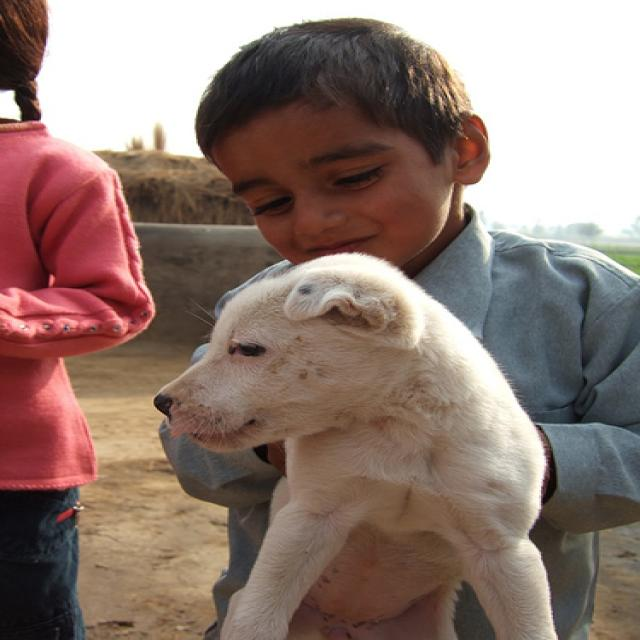dog: (151, 251, 563, 640)
person: (153, 15, 639, 640), (1, 1, 156, 639)
